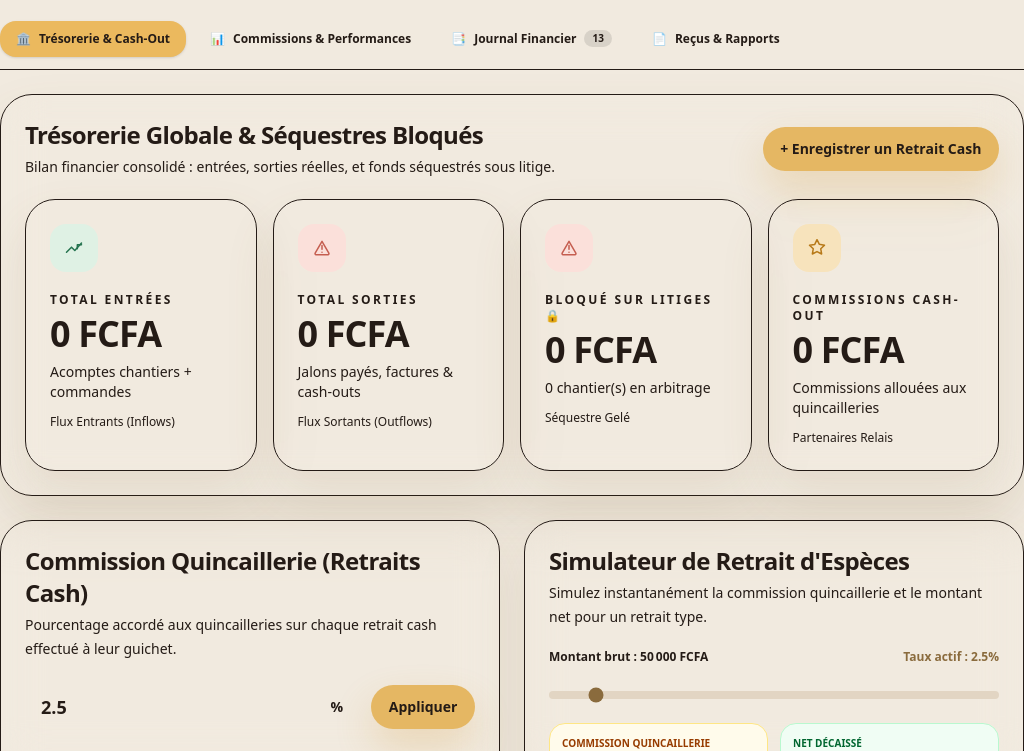
it: TransactionsPanel › affiche un état vide quand aucune transaction ne correspond à la recherche
Click the button "📑 Journal Financier 13" at point(532, 39), box x1=435 y1=20 x2=628 y2=57
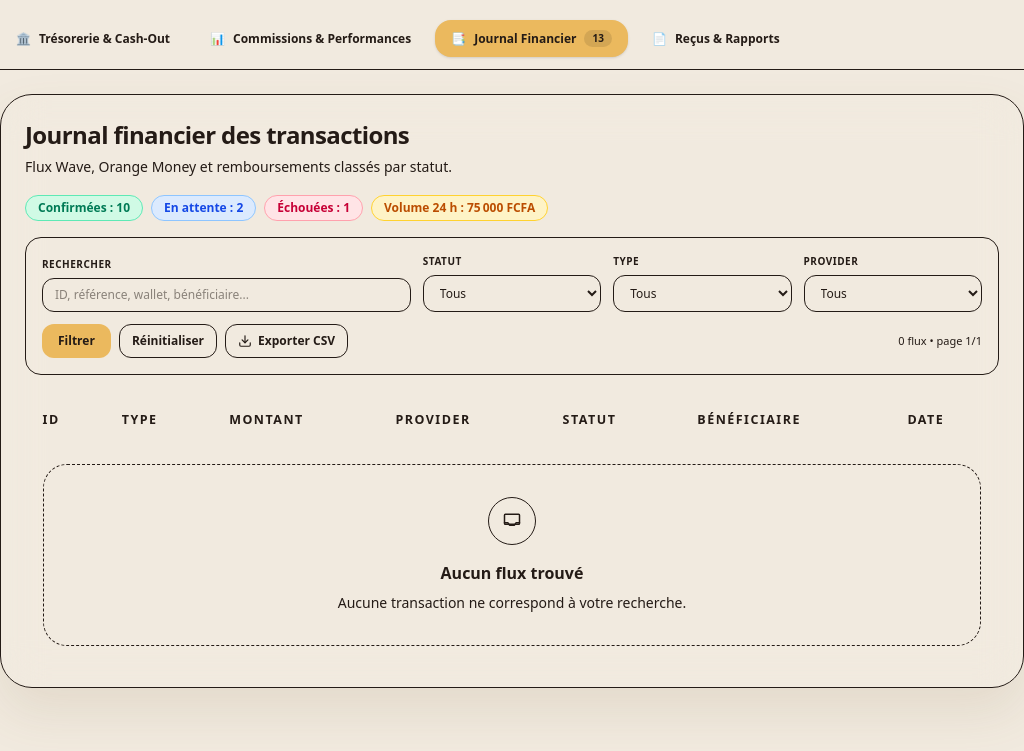
Check: the text "Aucun flux trouvé" is shown, box x1=441 y1=562 x2=583 y2=584
